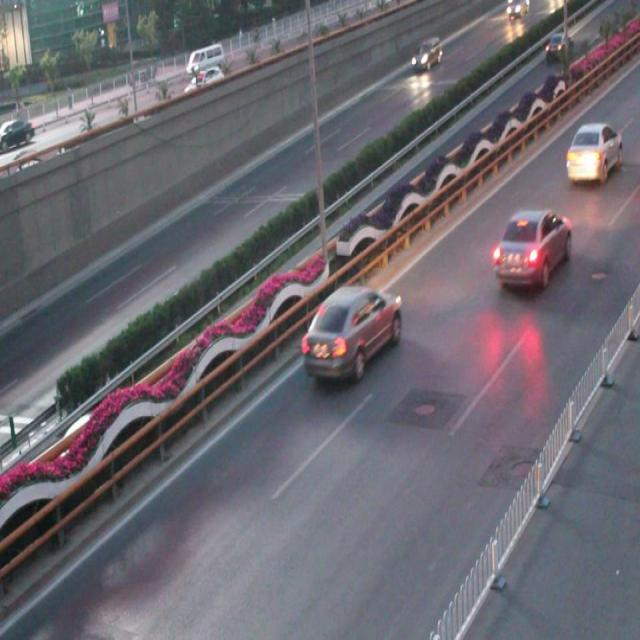car: (306, 281, 402, 378), (489, 206, 572, 286), (563, 124, 622, 184), (56, 406, 104, 462)
